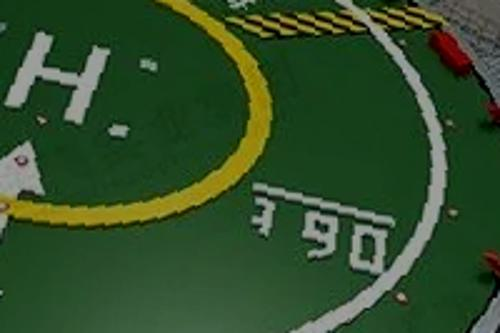Apron: (1, 1, 286, 232)
